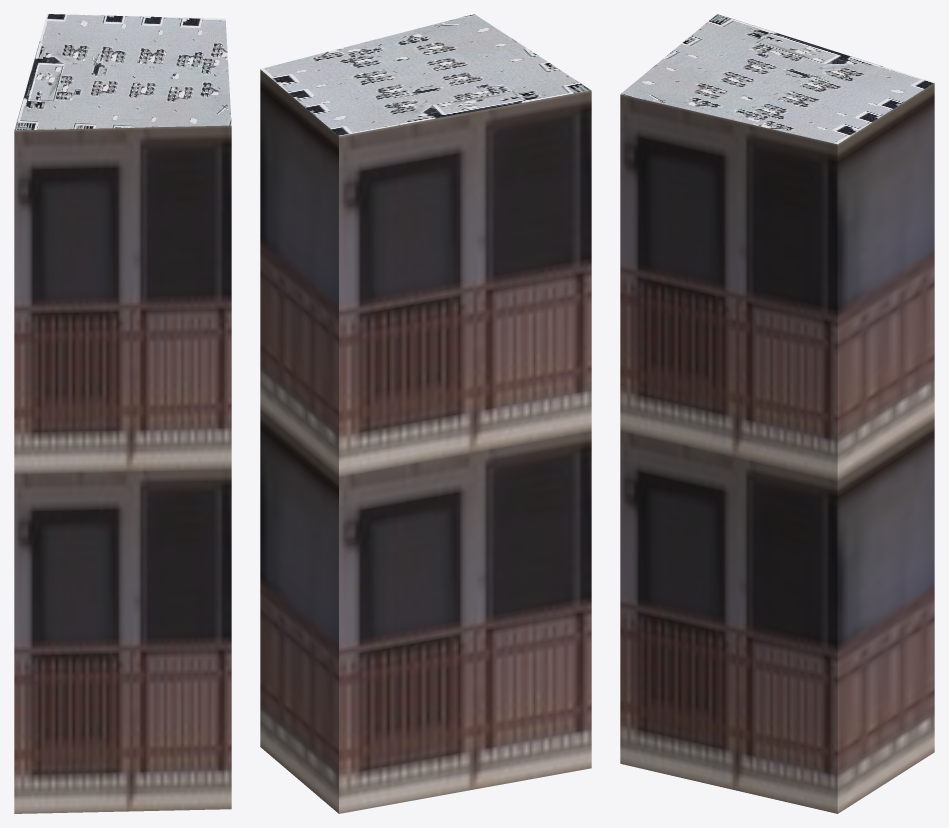
File: ResTex__3776.fbx
3 renders of one model, left to right at view 1: azimuth 30°, elevation 25°; view 2: azimuth 150°, elevation 25°; view 3: azimuth 270°, elevation 25°, orthographic. The views are drawn at different scales.
Parts seen in each view (by area): view 1: CityEngineMaterial_6_m, CityEngineMaterial_8_m; view 2: CityEngineMaterial_6_m, CityEngineMaterial_8_m; view 3: CityEngineMaterial_6_m, CityEngineMaterial_8_m.
Boxes of the visible parts, bbox=[...] form: CityEngineMaterial_6_m: bbox=[14, 125, 231, 813]; CityEngineMaterial_8_m: bbox=[14, 14, 231, 130]; CityEngineMaterial_6_m: bbox=[260, 69, 591, 813]; CityEngineMaterial_8_m: bbox=[260, 14, 591, 135]; CityEngineMaterial_6_m: bbox=[620, 83, 934, 813]; CityEngineMaterial_8_m: bbox=[620, 14, 934, 144].
Size of the model in its own units: 2.51 by 6 by 2.55.
2 materials, 2 textured.
